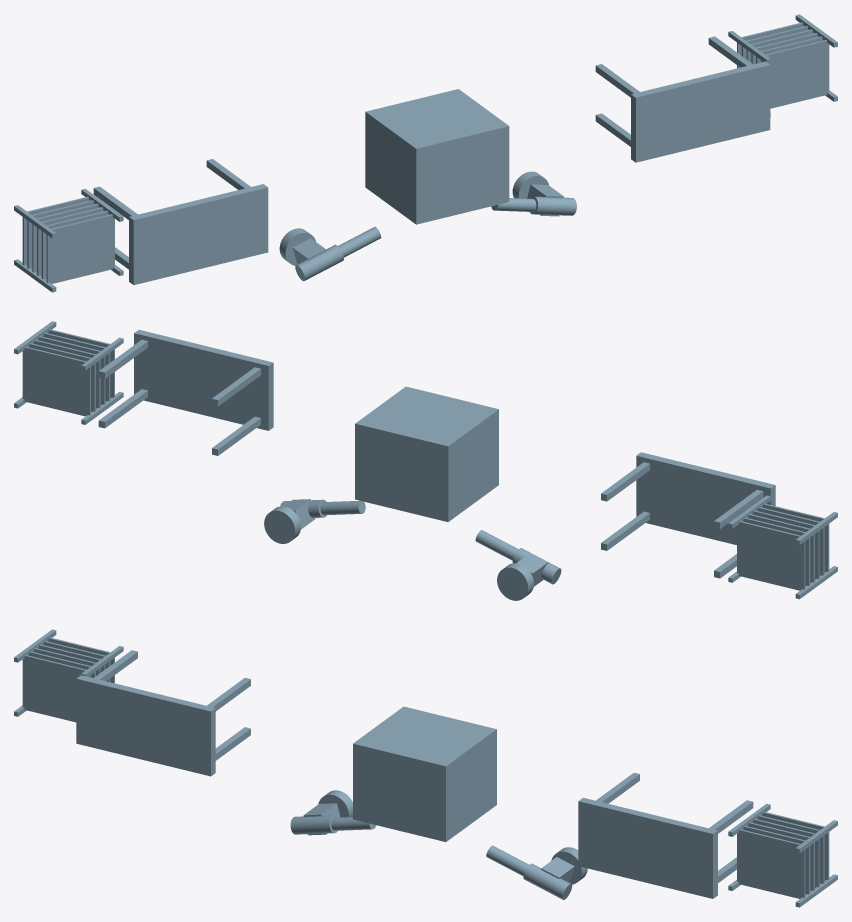
3 views of the same model, one above another, from view 1: azimuth 30°, elevation 25°; view 2: azimuth 150°, elevation 25°; view 3: azimuth 330°, elevation 25° (orthographic).
Visible parts, largest first — view 1: visual (×7); view 2: visual (×7); view 3: visual (×7).
Part boxes in pixels (x1,y1,x2,y2): visual (×7): (14, 14, 837, 292); visual (×7): (14, 321, 837, 600); visual (×7): (14, 629, 837, 907).
Size of what is drawn, in the model's own units: 7590 by 1250 by 900.
